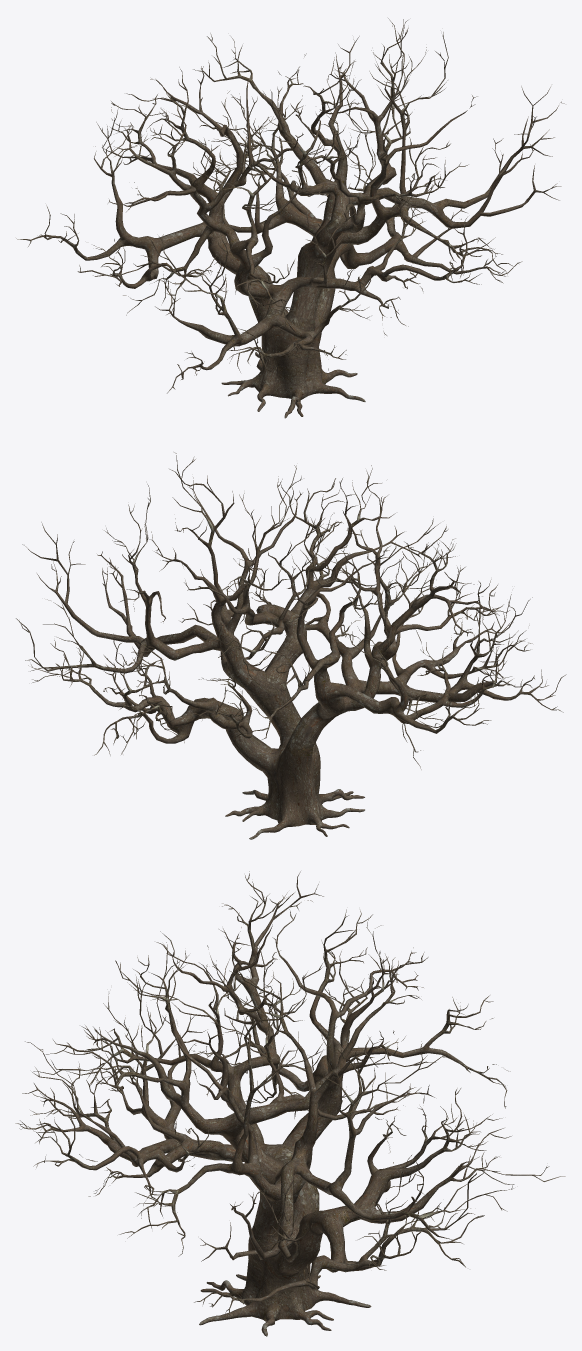
The model's file is SM_FAR_Tree_01.fbx.
3 renders of one model, top to bottom at view 1: azimuth 30°, elevation 25°; view 2: azimuth 150°, elevation 25°; view 3: azimuth 270°, elevation 25°, orthographic. The views are drawn at different scales.
Visible parts, largest first — view 1: SM_FAR_Tree_01.mo; view 2: SM_FAR_Tree_01.mo; view 3: SM_FAR_Tree_01.mo.
Part boxes in pixels (x1,y1,x2,y2): SM_FAR_Tree_01.mo: [16, 18, 564, 418]; SM_FAR_Tree_01.mo: [16, 452, 566, 839]; SM_FAR_Tree_01.mo: [15, 871, 565, 1336].
Bounding box in the file's own units: 2212 × 1376 × 1840.
